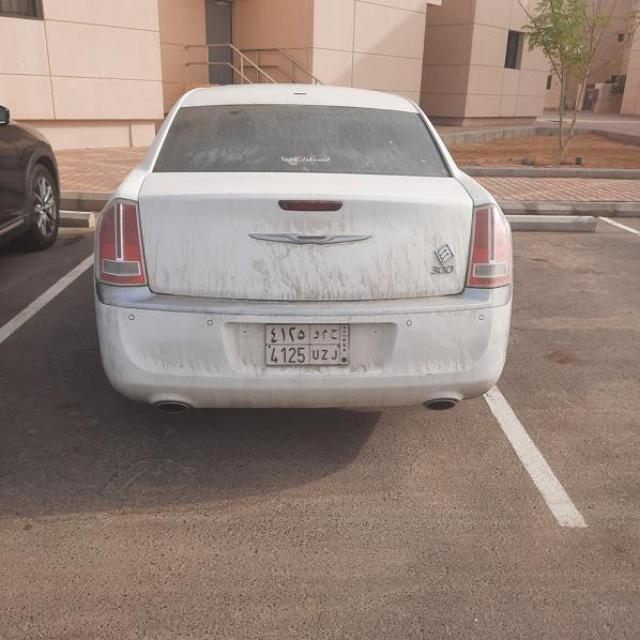license_plate: (264, 323, 350, 365)
